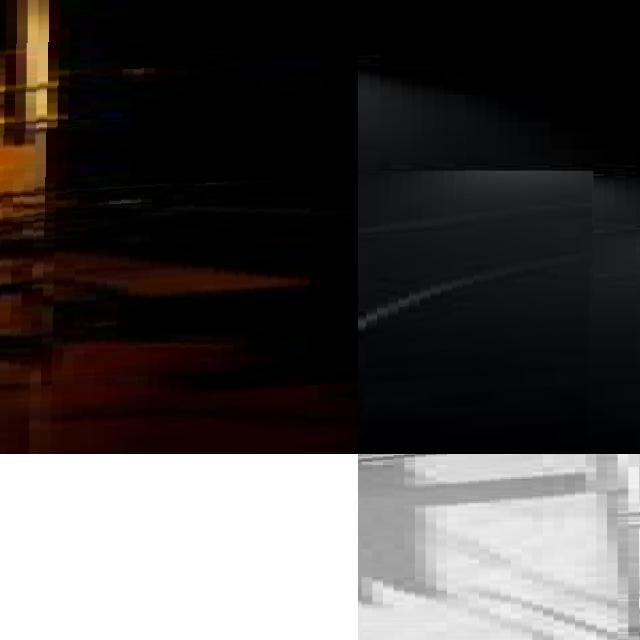street light: (0, 0, 358, 454), (0, 454, 358, 640), (358, 171, 593, 454), (358, 220, 640, 454), (358, 256, 640, 454)
